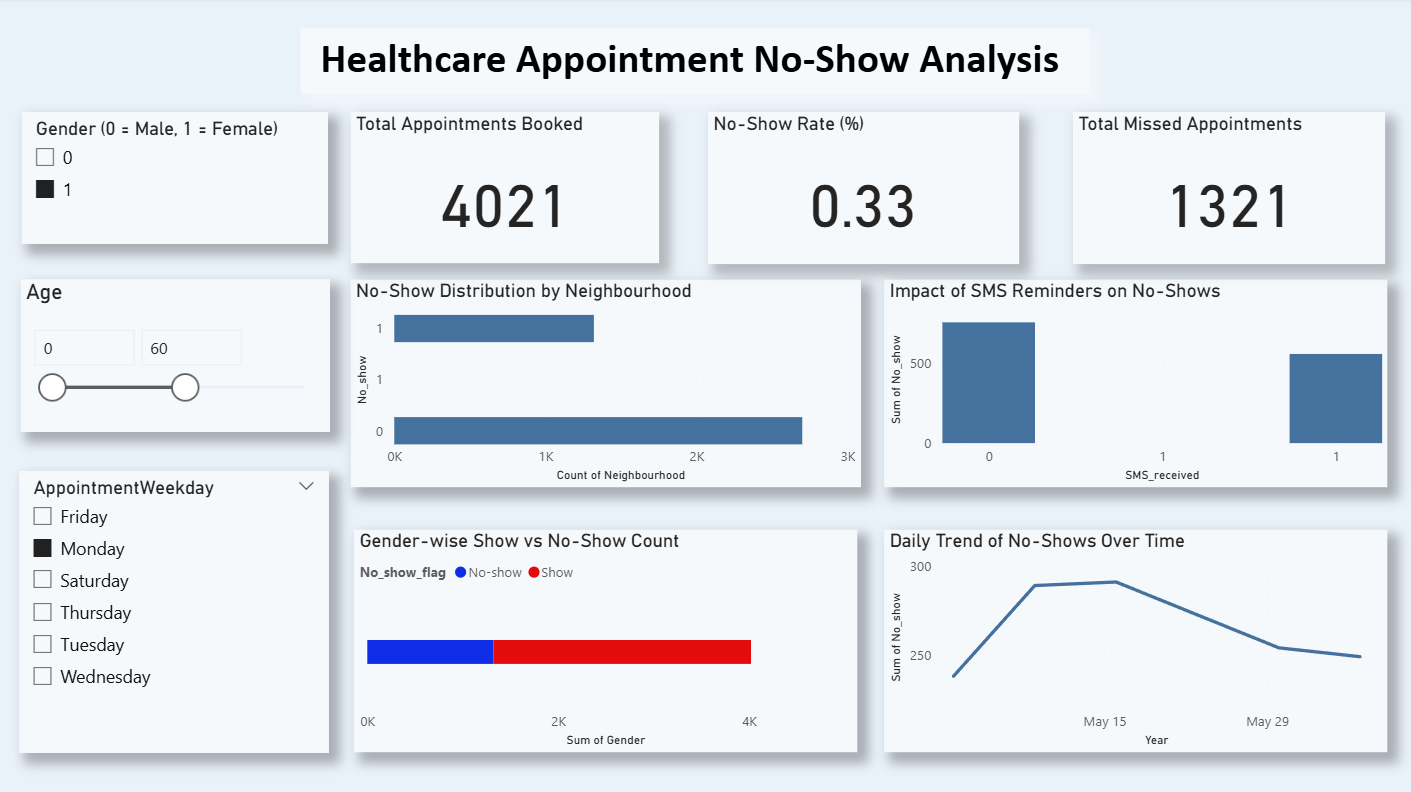

What the dashboard file says about the page in this screenshot:
{"tool":"powerbi","page":{"name":"Dashboard","canvas":[1280,720],"ordinal":0},"visuals":[{"type":"card","title":"Total Appointments Booked","fields":{"Values":["Sheet1.Total_Appointments"]},"box":[319.3,104.1,279.4,136.8],"z":0},{"type":"card","title":"\tTotal Missed Appointments","fields":{"Values":["Sheet1.Total_NoShows"]},"box":[972.9,104.3,282.7,137.2],"z":1000},{"type":"card","title":"No-Show Rate (%)","fields":{"Values":["Sheet1.No_show_percentage"]},"box":[642.2,104.3,281.3,137.2],"z":2000},{"type":"clusteredBarChart","title":"No-Show Distribution by Neighbourhood","fields":{"Category":["Sheet1.No_show"],"Y":["CountNonNull(Sheet1.Neighbourhood)"]},"box":[319.3,255.1,461.8,188.2],"z":3000},{"type":"barChart","title":"\tGender-wise Show vs No-Show Count","fields":{"Y":["Sum(Sheet1.Gender)"],"Series":["Sheet1.No_show_flag"]},"box":[322.5,481.6,455.6,201.7],"z":4000},{"type":"lineChart","title":"\tDaily Trend of No-Shows Over Time","fields":{"Y":["Sum(Sheet1.No_show)"],"Category":["Sheet1.AppointmentDay.Variation.Date Hierarchy.Year","Sheet1.AppointmentDay.Variation.Date Hierarchy.Quarter","Sheet1.AppointmentDay.Variation.Date Hierarchy.Month","Sheet1.AppointmentDay.Variation.Date Hierarchy.Day"]},"box":[801.4,481.6,455.6,201.7],"z":5000},{"type":"columnChart","title":"Impact of SMS Reminders on No-Shows","fields":{"Category":["Sheet1.SMS_received"],"Y":["Sum(Sheet1.No_show)"]},"box":[801.4,255.2,455.6,188],"z":6000},{"type":"slicer","title":"Age","fields":{"Values":["Sheet1.Age"]},"box":[20.6,255.2,279.9,137.2],"z":7000},{"type":"slicer","fields":{"Values":["Sheet1.Gender"]},"box":[22,104.3,277.2,119.4],"z":8000},{"type":"slicer","fields":{"Values":["Sheet1.AppointmentWeekday"]},"box":[19.2,428.1,279.9,255.2],"z":10000},{"type":"textbox","box":[273.1,28.8,713.6,59],"z":11000}]}

Visuals, with their boxes in screenshot pixels (x1, y1, x2, y2), scaled from the page's 1280x720 canvas onto the 1411x792 screenshot:
"Total Appointments Booked" card: 352 115 660 265
"	Total Missed Appointments" card: 1072 115 1384 266
"No-Show Rate (%)" card: 708 115 1018 266
"No-Show Distribution by Neighbourhood" clusteredBarChart: 352 281 861 488
"	Gender-wise Show vs No-Show Count" barChart: 356 530 858 752
"	Daily Trend of No-Shows Over Time" lineChart: 883 530 1386 752
"Impact of SMS Reminders on No-Shows" columnChart: 883 281 1386 488
"Age" slicer: 23 281 331 432
slicer - Sheet1.Gender: 24 115 330 246
slicer - Sheet1.AppointmentWeekday: 21 471 330 752
textbox: 301 32 1088 97
